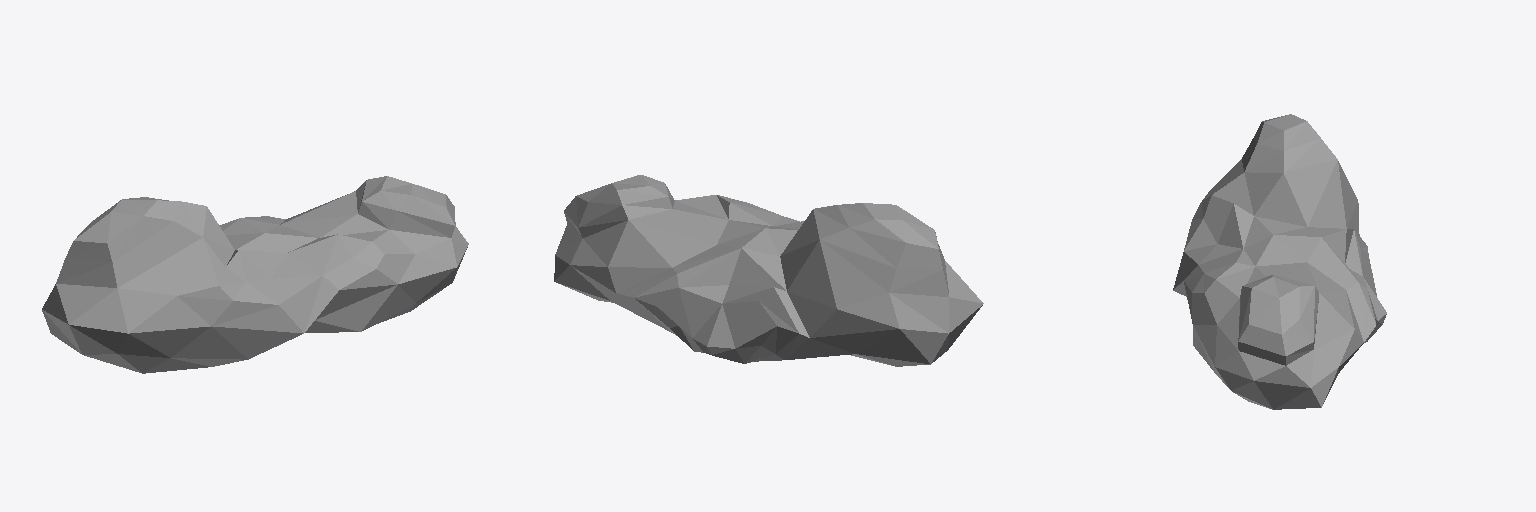
Rendered from Rubble03.obj.
3 renders of one model, left to right at view 1: azimuth 30°, elevation 25°; view 2: azimuth 150°, elevation 25°; view 3: azimuth 270°, elevation 25°, orthographic.
Parts seen in each view (by area): view 1: Rubble03._Rubble03; view 2: Rubble03._Rubble03; view 3: Rubble03._Rubble03.
Part boxes in pixels (bbox=[...]): Rubble03._Rubble03: bbox=[42, 176, 468, 373]; Rubble03._Rubble03: bbox=[554, 175, 983, 366]; Rubble03._Rubble03: bbox=[1173, 114, 1386, 409].
Bounding box in the file's own units: 2.88 × 1.06 × 1.32.